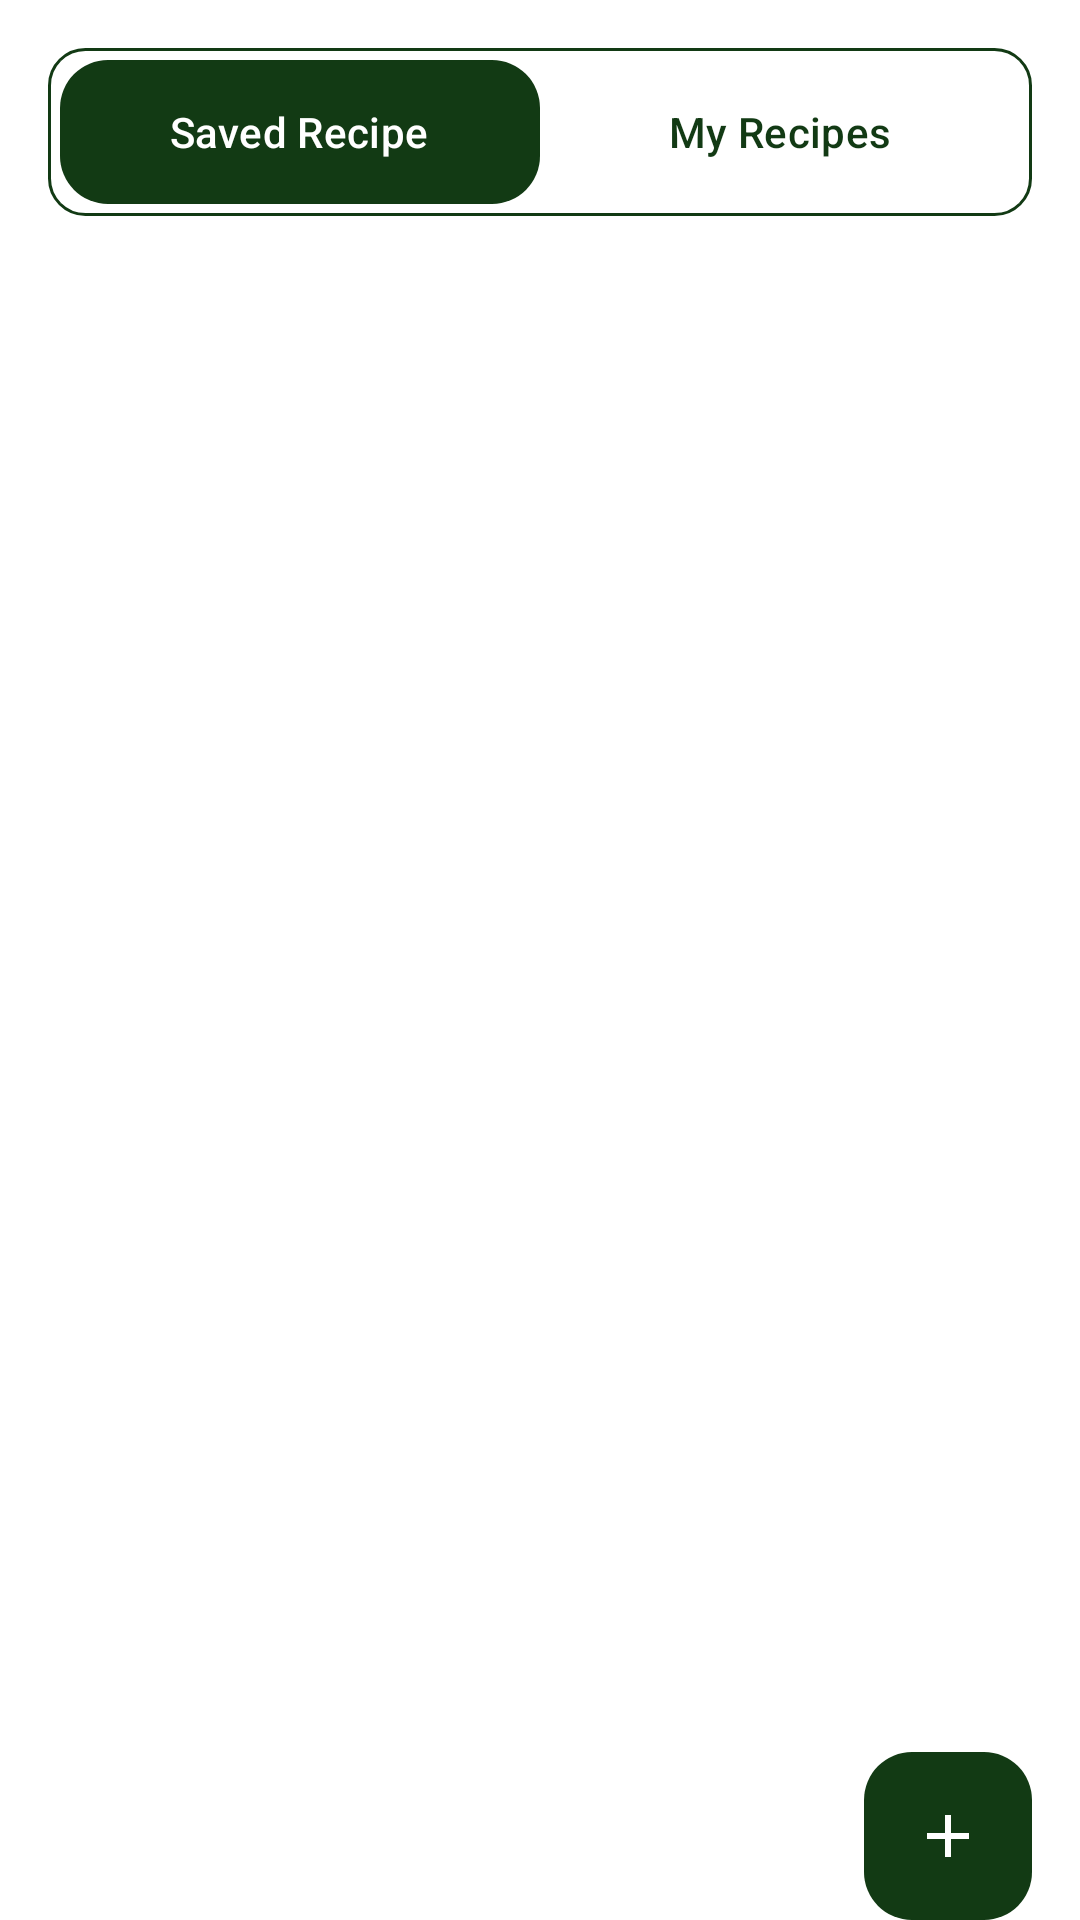

Screen size 1080 x 1920. Icon name, then its box in pixels as (x1, y1, x2, y2):
Add New Recipe: (864, 1752, 1032, 1920)
